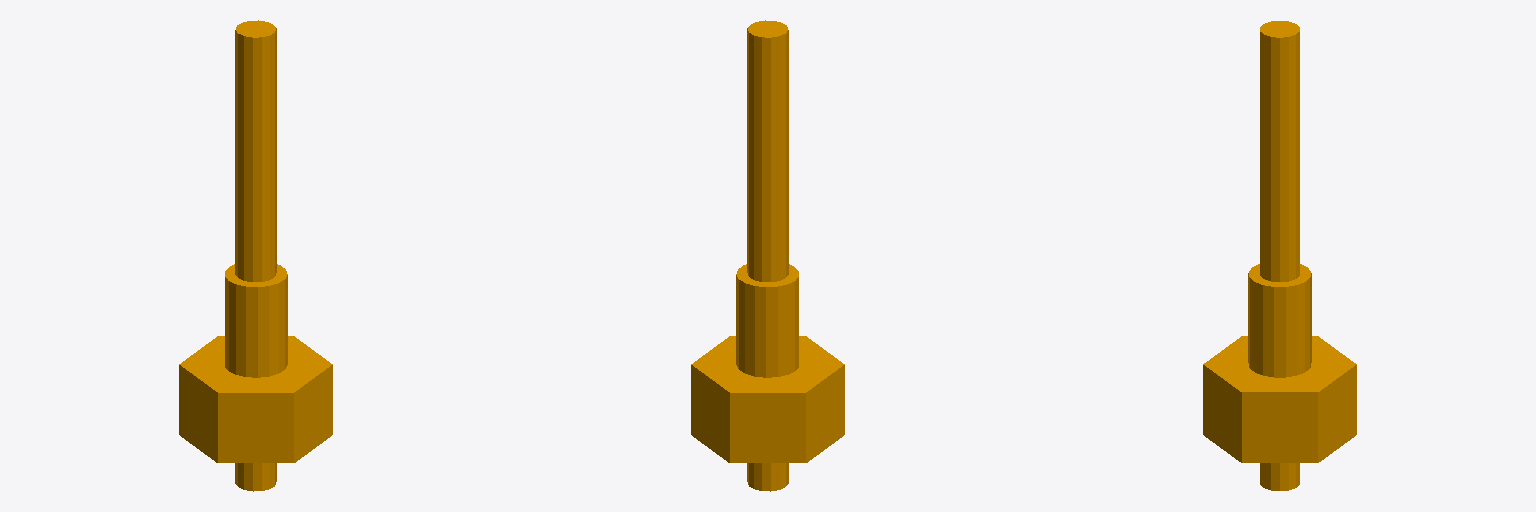
URDF robot description (01036_plug):
<?xml version="1.0"?>
<robot name="01036_plug">
	<link name="01036_plug">
		<visual>
			<geometry>
				<mesh filename="../mesh/01036/asset_plug.obj"/>
			</geometry>
		</visual>
		<collision>
			<geometry>
				<mesh filename="../mesh/01036/asset_plug.obj"/>
			</geometry>
			<sdf resolution="256"/>
		</collision>
	</link>
</robot>

--- What the picture shows (computed from the rendered views, not written in the file) ---
Views: 3 orthographic renders of the robot side by side, from view 1: azimuth 30°, elevation 25°; view 2: azimuth 150°, elevation 25°; view 3: azimuth 270°, elevation 25°.
Robot: 01036_plug — 1 links, 0 joints (none); root link 01036_plug; default pose: every joint at zero.
Links seen in each view (by area): view 1: 01036_plug; view 2: 01036_plug; view 3: 01036_plug.
Boxes of the visible links, bbox=[...] form: 01036_plug: bbox=[179, 20, 332, 491]; 01036_plug: bbox=[691, 20, 844, 491]; 01036_plug: bbox=[1203, 21, 1356, 490].
Bounding box of the posed robot: 0.0124 × 0.0143 × 0.0466 m (x, y, z).
Meshes: 1 distinct files referenced, 1 mesh visuals loaded (1 OBJ).
